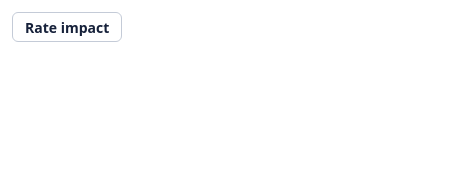
Test: Rate impact › rates every unit in one request and says what happened
Click the button "Rate impact".
click(67, 27)  # box left=12, top=12, right=122, bottom=42
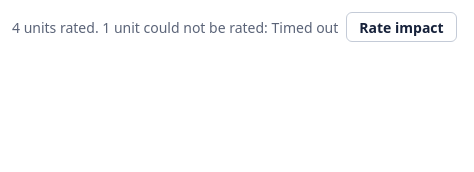
Check: the text "4 units rated. 1 unit could not be rated: Timed out" is shown, box left=12, top=16, right=338, bottom=38
